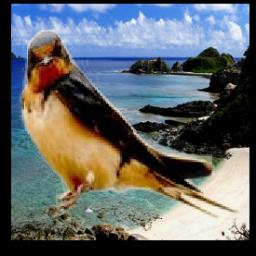Swallow: (19, 29, 237, 231)
